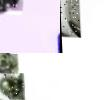ironball: (60, 0, 80, 37), (0, 71, 23, 99), (0, 53, 17, 74)
